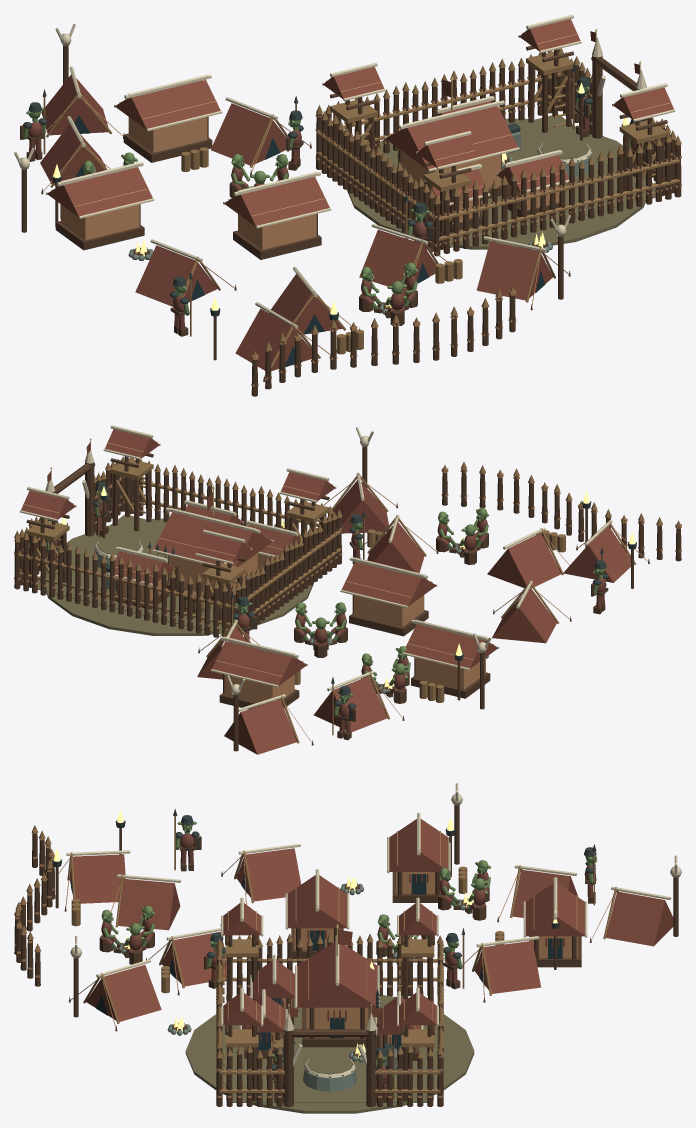
The model's file is fortified-warcamp-v3.glb.
3 renders of one model, top to bottom at view 1: azimuth 30°, elevation 25°; view 2: azimuth 150°, elevation 25°; view 3: azimuth 270°, elevation 25°, orthographic. The views are drawn at different scales.
Visible parts, largest first — view 1: fortified-warcamp-v3 Red ochre hide.001, fortified-warcamp-v3 Dark timber beams.001, fortified-warcamp-v3 Warm cut timber.001, fortified-warcamp-v3 Hide seams.001, fortified-warcamp-v3 Weathered tusk ivory.001, fortified-warcamp-v3 Packed camp earth.001, fortified-warcamp-v3 Tribal red cloth.001, fortified-warcamp-v3 Olive orc skin.001, fortified-warcamp-v3 Black forged iron.001, fortified-warcamp-v3 Deep window recess.001, fortified-warcamp-v3 Weathered foundation.001, fortified-warcamp-v3 Orc jaw and ears.001 (+1 smaller); view 2: fortified-warcamp-v3 Red ochre hide.001, fortified-warcamp-v3 Dark timber beams.001, fortified-warcamp-v3 Warm cut timber.001, fortified-warcamp-v3 Hide seams.001, fortified-warcamp-v3 Weathered tusk ivory.001, fortified-warcamp-v3 Packed camp earth.001, fortified-warcamp-v3 Tribal red cloth.001, fortified-warcamp-v3 Olive orc skin.001, fortified-warcamp-v3 Black forged iron.001, fortified-warcamp-v3 Orc jaw and ears.001; view 3: fortified-warcamp-v3 Red ochre hide.001, fortified-warcamp-v3 Dark timber beams.001, fortified-warcamp-v3 Warm cut timber.001, fortified-warcamp-v3 Packed camp earth.001, fortified-warcamp-v3 Weathered tusk ivory.001, fortified-warcamp-v3 Hide seams.001, fortified-warcamp-v3 Tribal red cloth.001, fortified-warcamp-v3 Olive orc skin.001, fortified-warcamp-v3 Deep window recess.001, fortified-warcamp-v3 Black forged iron.001, fortified-warcamp-v3 Weathered foundation.001, fortified-warcamp-v3 Hearth flame.001 (+1 smaller).
Boxes of the visible parts, x1,y1,x2,y2 form: fortified-warcamp-v3 Red ochre hide.001: (40, 19, 673, 370); fortified-warcamp-v3 Dark timber beams.001: (20, 45, 681, 396); fortified-warcamp-v3 Warm cut timber.001: (43, 48, 681, 367); fortified-warcamp-v3 Hide seams.001: (43, 32, 681, 386); fortified-warcamp-v3 Weathered tusk ivory.001: (14, 14, 675, 328); fortified-warcamp-v3 Packed camp earth.001: (347, 114, 665, 250); fortified-warcamp-v3 Tribal red cloth.001: (28, 97, 643, 329); fortified-warcamp-v3 Olive orc skin.001: (23, 86, 643, 312); fortified-warcamp-v3 Black forged iron.001: (23, 64, 645, 320); fortified-warcamp-v3 Deep window recess.001: (74, 86, 578, 366); fortified-warcamp-v3 Weathered foundation.001: (128, 132, 592, 314); fortified-warcamp-v3 Orc jaw and ears.001: (23, 86, 630, 315); fortified-warcamp-v3 Red ochre hide.001: (21, 429, 630, 754); fortified-warcamp-v3 Dark timber beams.001: (14, 446, 681, 751); fortified-warcamp-v3 Warm cut timber.001: (14, 456, 681, 743); fortified-warcamp-v3 Hide seams.001: (14, 441, 681, 742); fortified-warcamp-v3 Weathered tusk ivory.001: (19, 425, 612, 711); fortified-warcamp-v3 Packed camp earth.001: (31, 514, 314, 635); fortified-warcamp-v3 Tribal red cloth.001: (48, 500, 606, 732); fortified-warcamp-v3 Olive orc skin.001: (46, 490, 605, 713); fortified-warcamp-v3 Black forged iron.001: (46, 479, 636, 720); fortified-warcamp-v3 Orc jaw and ears.001: (47, 491, 597, 716); fortified-warcamp-v3 Red ochre hide.001: (69, 819, 673, 1044); fortified-warcamp-v3 Dark timber beams.001: (14, 805, 678, 1107); fortified-warcamp-v3 Warm cut timber.001: (14, 816, 618, 1098); fortified-warcamp-v3 Packed camp earth.001: (185, 995, 474, 1113); fortified-warcamp-v3 Weathered tusk ivory.001: (66, 783, 681, 1078); fortified-warcamp-v3 Hide seams.001: (15, 828, 616, 1097); fortified-warcamp-v3 Tribal red cloth.001: (101, 834, 595, 1096); fortified-warcamp-v3 Olive orc skin.001: (101, 821, 596, 1077); fortified-warcamp-v3 Deep window recess.001: (71, 825, 595, 1051); fortified-warcamp-v3 Black forged iron.001: (52, 809, 596, 1077); fortified-warcamp-v3 Weathered foundation.001: (119, 882, 469, 1091); fortified-warcamp-v3 Hearth flame.001: (53, 810, 557, 1060).
Size of the model in its own units: 18.73 by 3.85 by 21.05.
